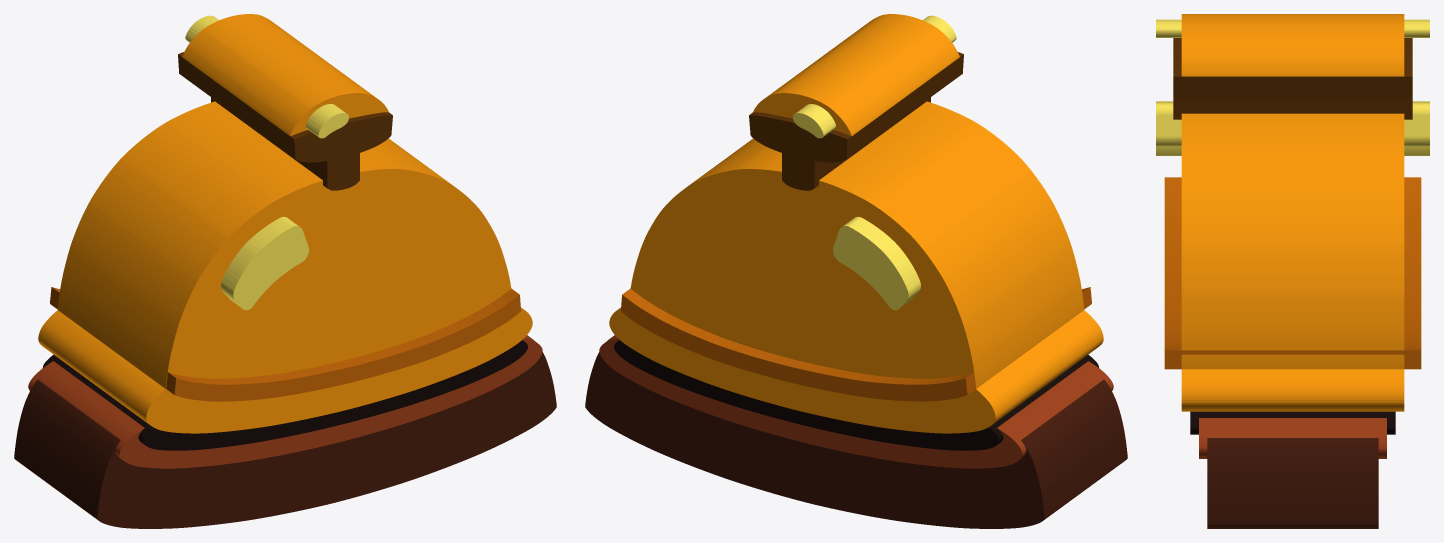
The picture shows the model from 3 angles, left to right: view 1: azimuth 30°, elevation 25°; view 2: azimuth 150°, elevation 25°; view 3: azimuth 270°, elevation 25°; orthographic projection. The views are drawn at different scales.
Parts seen in each view (by area): view 1: U+1F6CE_layer03_obj02, U+1F6CE_layer00_obj00, U+1F6CE_layer03_obj00, U+1F6CE_layer03_obj01, U+1F6CE_layer01_obj00, U+1F6CE_layer05_obj00, U+1F6CE_layer02_obj00, U+1F6CE_layer04_obj01, U+1F6CE_layer06_obj00, U+1F6CE_layer04_obj00, U+1F6CE_layer06_obj01; view 2: U+1F6CE_layer03_obj02, U+1F6CE_layer00_obj00, U+1F6CE_layer03_obj00, U+1F6CE_layer03_obj01, U+1F6CE_layer01_obj00, U+1F6CE_layer05_obj00, U+1F6CE_layer02_obj00, U+1F6CE_layer06_obj00, U+1F6CE_layer04_obj01, U+1F6CE_layer04_obj00, U+1F6CE_layer06_obj01; view 3: U+1F6CE_layer03_obj02, U+1F6CE_layer00_obj00, U+1F6CE_layer03_obj01, U+1F6CE_layer03_obj00, U+1F6CE_layer05_obj00, U+1F6CE_layer04_obj01, U+1F6CE_layer04_obj00, U+1F6CE_layer01_obj00, U+1F6CE_layer06_obj00, U+1F6CE_layer02_obj00, U+1F6CE_layer06_obj01.
Boxes of the visible parts, x1,y1,x2,y2 form: U+1F6CE_layer03_obj02: (58, 101, 511, 400); U+1F6CE_layer00_obj00: (14, 335, 556, 528); U+1F6CE_layer03_obj00: (38, 300, 532, 433); U+1F6CE_layer03_obj01: (182, 14, 388, 136); U+1F6CE_layer01_obj00: (28, 335, 542, 468); U+1F6CE_layer05_obj00: (50, 287, 520, 401); U+1F6CE_layer02_obj00: (43, 340, 527, 450); U+1F6CE_layer04_obj01: (178, 52, 392, 162); U+1F6CE_layer06_obj00: (221, 216, 308, 310); U+1F6CE_layer04_obj00: (211, 97, 359, 190); U+1F6CE_layer06_obj01: (185, 15, 348, 138); U+1F6CE_layer03_obj02: (630, 101, 1083, 400); U+1F6CE_layer00_obj00: (585, 335, 1127, 528); U+1F6CE_layer03_obj00: (609, 300, 1103, 433); U+1F6CE_layer03_obj01: (753, 14, 959, 136); U+1F6CE_layer01_obj00: (599, 335, 1113, 468); U+1F6CE_layer05_obj00: (621, 287, 1091, 401); U+1F6CE_layer02_obj00: (614, 340, 1098, 450); U+1F6CE_layer06_obj00: (833, 216, 920, 310); U+1F6CE_layer04_obj01: (749, 52, 963, 162); U+1F6CE_layer04_obj00: (782, 97, 930, 190); U+1F6CE_layer06_obj01: (793, 15, 956, 138); U+1F6CE_layer03_obj02: (1181, 113, 1404, 369); U+1F6CE_layer00_obj00: (1207, 438, 1378, 528); U+1F6CE_layer03_obj01: (1181, 14, 1404, 76); U+1F6CE_layer03_obj00: (1181, 369, 1404, 411); U+1F6CE_layer05_obj00: (1164, 177, 1421, 369); U+1F6CE_layer04_obj01: (1173, 38, 1412, 96); U+1F6CE_layer04_obj00: (1173, 97, 1412, 119); U+1F6CE_layer01_obj00: (1199, 418, 1386, 458); U+1F6CE_layer06_obj00: (1156, 101, 1429, 155); U+1F6CE_layer02_obj00: (1190, 411, 1395, 434); U+1F6CE_layer06_obj01: (1156, 19, 1429, 37).
Size of the model in its own units: 0.3192 by 0.2777 by 0.16.
